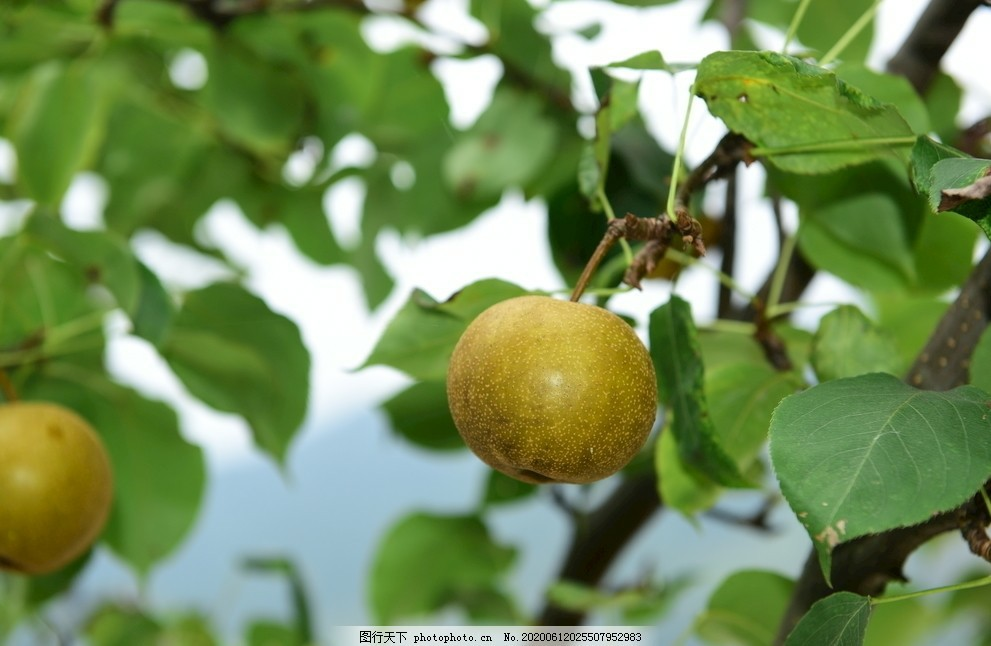pear: (447, 291, 657, 485), (1, 400, 113, 573)
